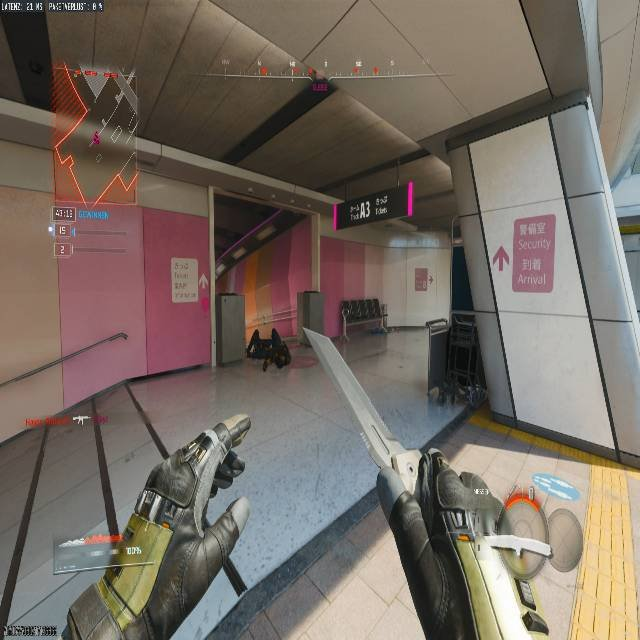player: (245, 328, 291, 372)
